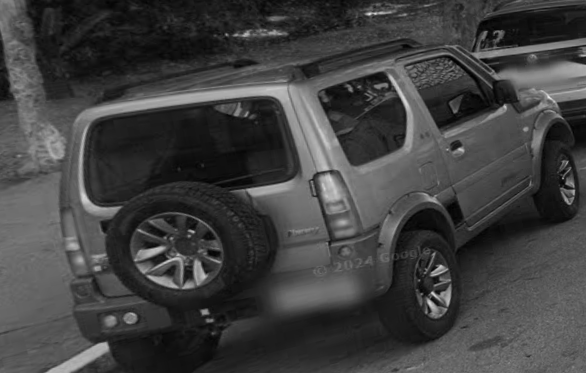car: (57, 40, 569, 358)
